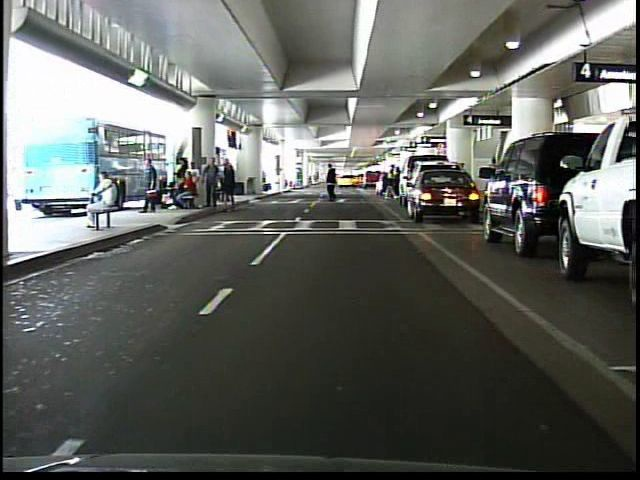person: (73, 165, 121, 234), (135, 153, 161, 217), (323, 162, 345, 208), (382, 161, 398, 198)
